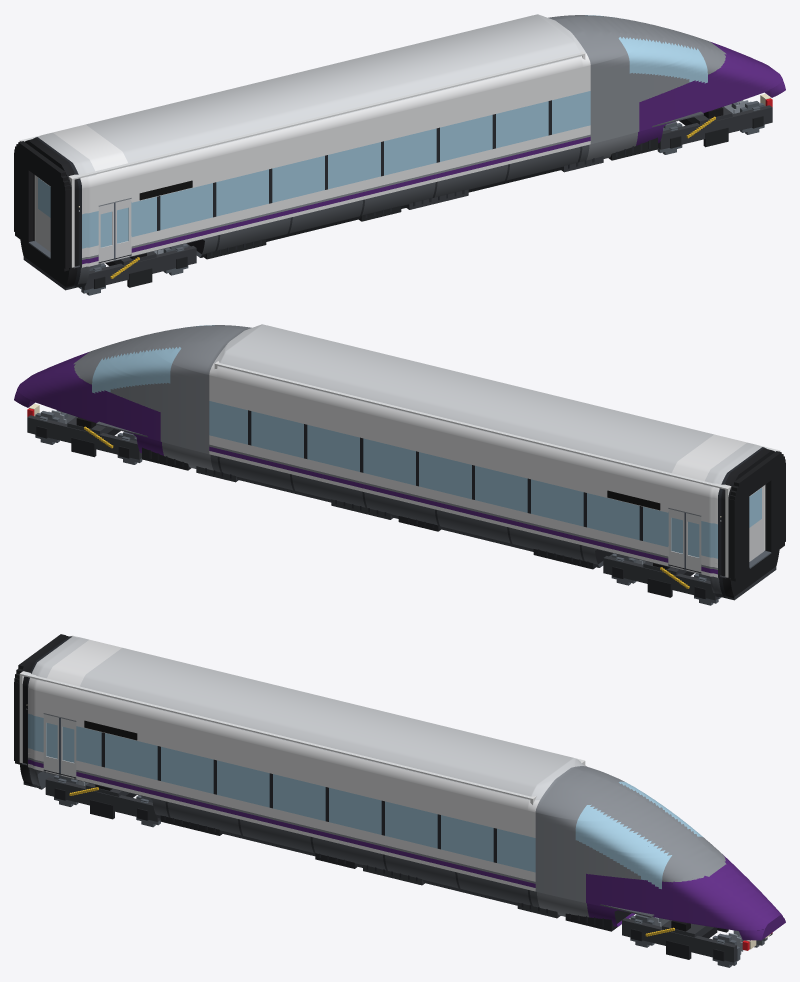
Rendered from tgv_inoui_front.obj.
3 renders of one model, top to bottom at view 1: azimuth 30°, elevation 25°; view 2: azimuth 150°, elevation 25°; view 3: azimuth 330°, elevation 25°, orthographic.
Visible parts, largest first — view 1: SHELL, SHELL_diaphragm, BOGEY_FRONT, BOGEY_REAR, SHELL_ceiling, FRAME, EXTERNAL_DOOR_3_CG_DR1_TOGGLE_TL_-0.44_X, CONNECTING_DOOR_1_CG_CR_TOGGLE_TL_0.98_Z, EXTERNAL_DOOR_4_CG_DR1_TOGGLE_TL_0.44_X, SHELL_end; view 2: SHELL, SHELL_diaphragm, BOGEY_FRONT, BOGEY_REAR, SHELL_ceiling, FRAME, EXTERNAL_DOOR_6_CG_DL1_TOGGLE_TL_-0.44_X, CONNECTING_DOOR_1_CG_CR_TOGGLE_TL_0.98_Z, EXTERNAL_DOOR_7_CG_DL1_TOGGLE_TL_0.44_X, SHELL_end; view 3: SHELL, BOGEY_FRONT, BOGEY_REAR, FRAME, SHELL_ceiling, EXTERNAL_DOOR_3_CG_DR1_TOGGLE_TL_-0.44_X, EXTERNAL_DOOR_4_CG_DR1_TOGGLE_TL_0.44_X, SHELL_diaphragm.
Part boxes in pixels (bbox=[...]): SHELL: bbox=[20, 14, 785, 290]; SHELL_diaphragm: bbox=[14, 141, 70, 271]; BOGEY_FRONT: bbox=[658, 102, 772, 149]; BOGEY_REAR: bbox=[81, 246, 196, 290]; SHELL_ceiling: bbox=[22, 17, 582, 179]; FRAME: bbox=[98, 137, 657, 262]; EXTERNAL_DOOR_3_CG_DR1_TOGGLE_TL_-0.44_X: bbox=[98, 203, 115, 262]; CONNECTING_DOOR_1_CG_CR_TOGGLE_TL_0.98_Z: bbox=[36, 176, 50, 251]; EXTERNAL_DOOR_4_CG_DR1_TOGGLE_TL_0.44_X: bbox=[115, 199, 131, 258]; SHELL_end: bbox=[19, 140, 74, 267]; SHELL: bbox=[14, 324, 779, 600]; SHELL_diaphragm: bbox=[729, 451, 785, 581]; BOGEY_FRONT: bbox=[27, 412, 141, 459]; BOGEY_REAR: bbox=[603, 556, 718, 600]; SHELL_ceiling: bbox=[217, 327, 777, 489]; FRAME: bbox=[142, 447, 701, 572]; EXTERNAL_DOOR_6_CG_DL1_TOGGLE_TL_-0.44_X: bbox=[684, 513, 701, 572]; CONNECTING_DOOR_1_CG_CR_TOGGLE_TL_0.98_Z: bbox=[749, 486, 763, 561]; EXTERNAL_DOOR_7_CG_DL1_TOGGLE_TL_0.44_X: bbox=[668, 509, 684, 568]; SHELL_end: bbox=[725, 450, 780, 577]; SHELL: bbox=[18, 634, 785, 940]; BOGEY_FRONT: bbox=[622, 918, 772, 962]; BOGEY_REAR: bbox=[45, 777, 160, 821]; FRAME: bbox=[44, 769, 631, 931]; SHELL_ceiling: bbox=[21, 636, 582, 799]; EXTERNAL_DOOR_3_CG_DR1_TOGGLE_TL_-0.44_X: bbox=[43, 714, 60, 773]; EXTERNAL_DOOR_4_CG_DR1_TOGGLE_TL_0.44_X: bbox=[60, 718, 76, 777]; SHELL_diaphragm: bbox=[14, 634, 65, 764].
Bounding box in the file's own units: 22.31 × 4.05 × 2.92.
1 material, 1 textured.
